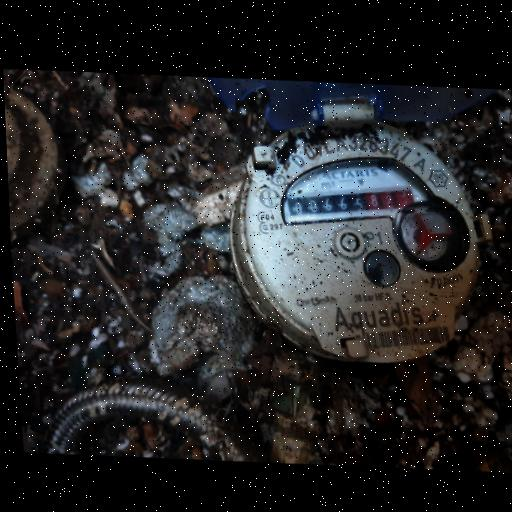0: (290, 196, 307, 217), (305, 195, 322, 215)
2: (380, 190, 397, 211)
5: (349, 192, 366, 213)
6: (334, 192, 351, 213), (319, 194, 335, 214)
8: (364, 191, 381, 210)
border_water_meter_number: (282, 173, 421, 227)
